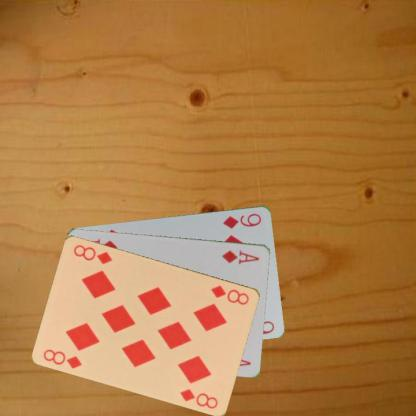8d: (208, 282, 250, 306), (41, 346, 83, 370)
9d: (220, 210, 263, 230)
Ad: (220, 247, 261, 265)
